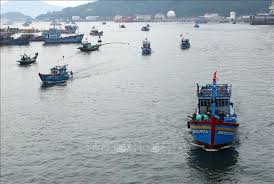tau_dansu: (191, 79, 241, 153), (37, 61, 73, 89), (15, 52, 47, 67), (79, 37, 98, 54), (137, 40, 158, 54), (178, 34, 192, 50), (137, 24, 157, 31)
